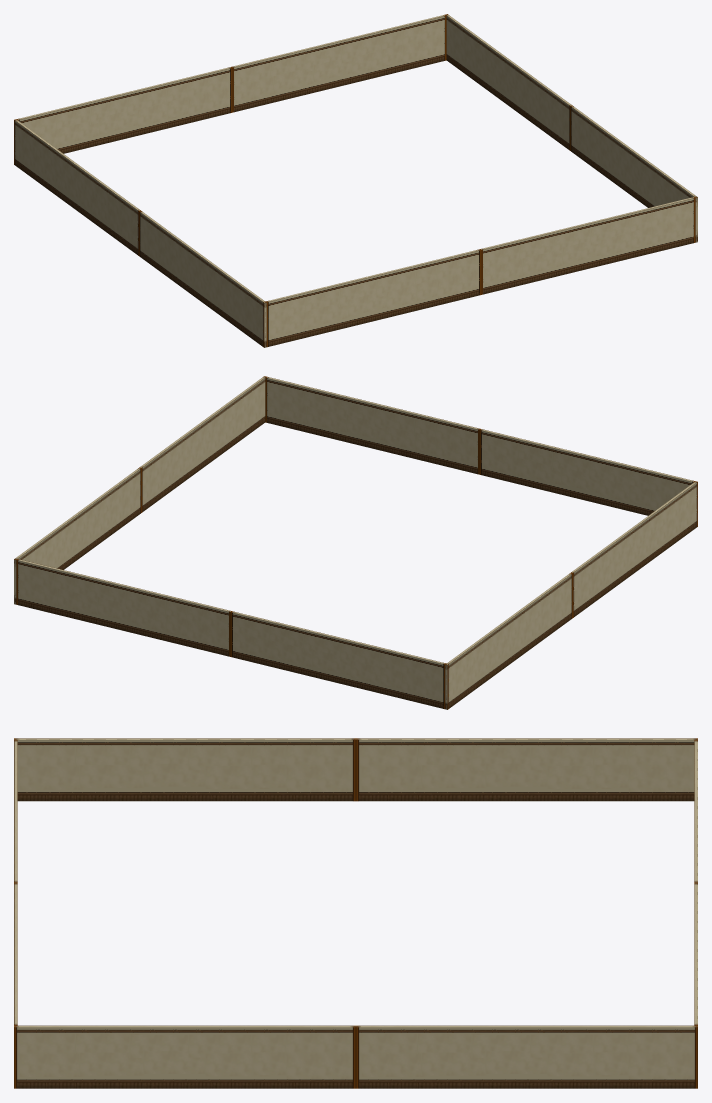
The model's file is PPDungeonWalls.fbx.
3 renders of one model, top to bottom at view 1: azimuth 30°, elevation 25°; view 2: azimuth 150°, elevation 25°; view 3: azimuth 270°, elevation 25°, orthographic. The views are drawn at different scales.
Parts seen in each view (by area): view 1: Cube_1, Cube, Cube_2, Cube_3; view 2: Cube, Cube_1, Cube_2, Cube_3; view 3: Cube_3, Cube_2, Cube, Cube_1.
Boxes of the visible parts, x1,y1,x2,y2 form: Cube_1: (265, 197, 695, 347); Cube: (16, 14, 446, 153); Cube_2: (14, 119, 266, 347); Cube_3: (445, 14, 697, 242); Cube: (16, 559, 446, 709); Cube_1: (265, 376, 695, 515); Cube_2: (445, 481, 697, 709); Cube_3: (14, 376, 266, 604); Cube_3: (14, 1025, 697, 1088); Cube_2: (14, 738, 697, 801); Cube: (694, 740, 697, 1025); Cube_1: (14, 740, 17, 1025).
Bounding box in the file's own units: 9100 × 900 × 9100.
4 materials, 4 textured.
